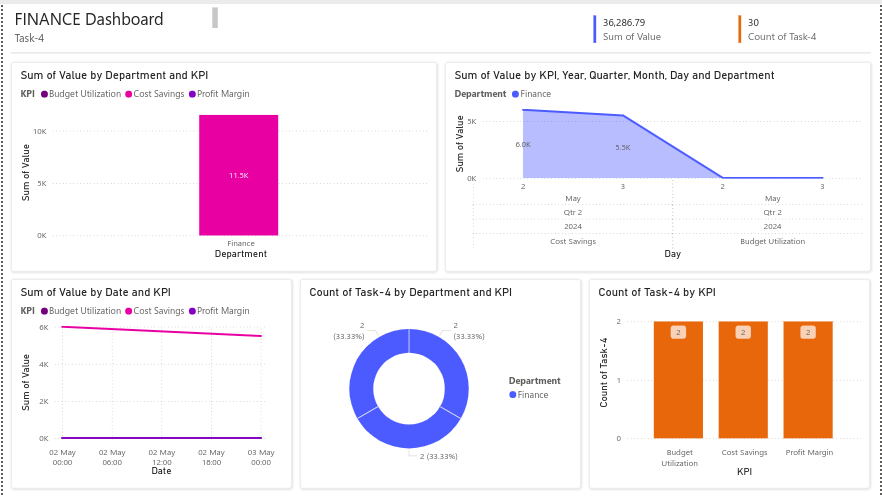

What the dashboard file says about the page in this screenshot:
{"tool":"powerbi","page":{"name":"Finance","canvas":[1280,720],"ordinal":1},"visuals":[{"type":"shape","box":[12,58,1256,26],"z":0},{"type":"shape","box":[12,84,622,306],"z":1000},{"type":"shape","box":[646,84,622,306],"z":2000},{"type":"shape","box":[12,402,410,306],"z":3000},{"type":"shape","box":[434,402,410,306],"z":4000},{"type":"shape","box":[856,402,410,306],"z":5000},{"type":"lineClusteredColumnComboChart","fields":{"Category":["Task-4.KPI"],"Y":["Count(Task-4)"]},"box":[864,414,394,282],"z":6000},{"type":"donutChart","fields":{"Category":["Task-4.Department"],"Y":["Count(Task-4)"],"Series":["Task-4.KPI"]},"box":[442,414,394,282],"z":7000},{"type":"lineChart","fields":{"Category":["Task-4.Date"],"Y":["Sum(Task-4.Value)"],"Series":["Task-4.KPI"]},"box":[20,414,394,282],"z":8000},{"type":"stackedAreaChart","fields":{"Category":["Task-4.KPI","Task-4.Date.Variation.Date Hierarchy.Year","Task-4.Date.Variation.Date Hierarchy.Quarter","Task-4.Date.Variation.Date Hierarchy.Month","Task-4.Date.Variation.Date Hierarchy.Day"],"Y":["Sum(Task-4.Value)"],"Series":["Task-4.Department"]},"box":[654,96,606,282],"z":9000},{"type":"columnChart","fields":{"Category":["Task-4.Department"],"Y":["Sum(Task-4.Value)"],"Series":["Task-4.KPI"]},"box":[20,96,606,282],"z":10000},{"type":"multiRowCard","fields":{"Values":["Count(Task-4)"]},"box":[1069,12,199,50],"z":11000},{"type":"multiRowCard","fields":{"Values":["Sum(Task-4.Value)"]},"box":[858,12,199,50],"z":12000},{"type":"textbox","box":[12,33,306,32],"z":13000},{"type":"textbox","box":[11.7,0,306.7,40.9],"z":14000}]}

Visuals, with their boxes in screenshot pixels (x1, y1, x2, y2), scaled from the page's 1280x720 canvas onto the 882x497 screenshot:
shape: <box>8,40,874,58</box>
shape: <box>8,58,437,269</box>
shape: <box>445,58,874,269</box>
shape: <box>8,277,291,489</box>
shape: <box>299,277,582,489</box>
shape: <box>590,277,872,489</box>
lineClusteredColumnComboChart - Task-4.KPI x Count(Task-4): <box>595,286,867,480</box>
donutChart - Task-4.Department x Count(Task-4): <box>305,286,576,480</box>
lineChart - Task-4.Date x Sum(Task-4.Value): <box>14,286,285,480</box>
stackedAreaChart - Task-4.KPI x Task-4.Date.Variation.Date Hierarchy.Year: <box>451,66,868,261</box>
columnChart - Task-4.Department x Sum(Task-4.Value): <box>14,66,431,261</box>
multiRowCard - Count(Task-4): <box>737,8,874,43</box>
multiRowCard - Sum(Task-4.Value): <box>591,8,728,43</box>
textbox: <box>8,23,219,45</box>
textbox: <box>8,0,219,28</box>
